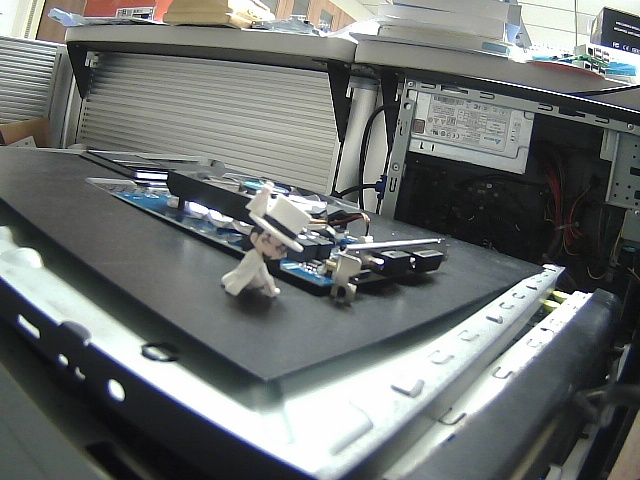lucci: (206, 176, 317, 314)
